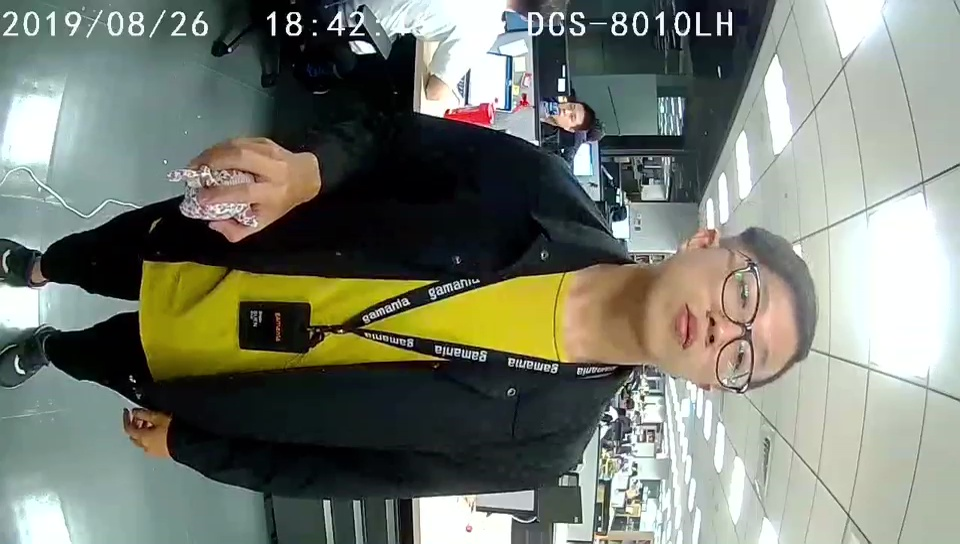pig: (166, 163, 262, 228)
